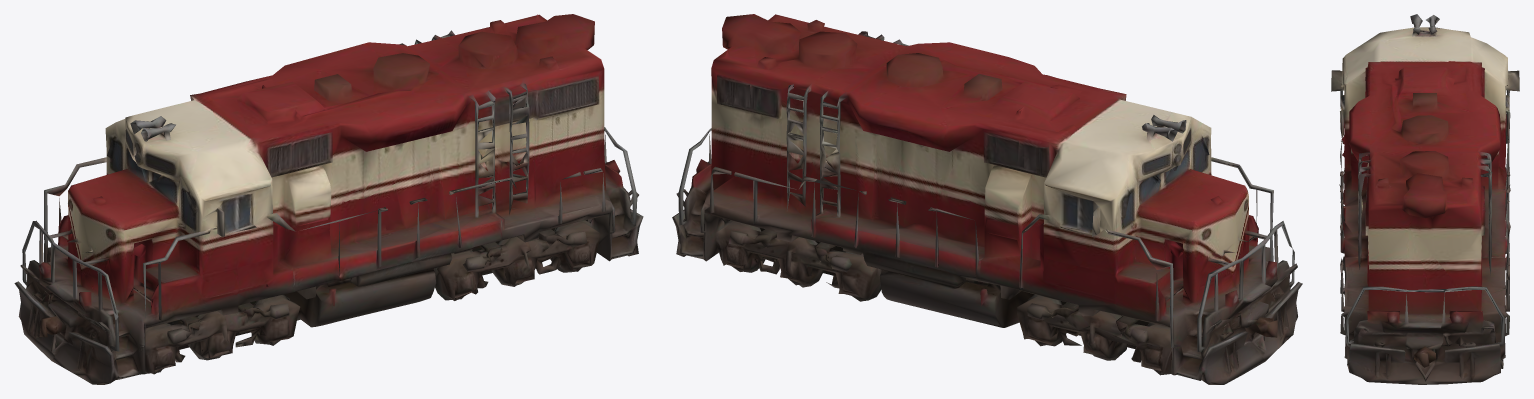
File: train_locomotive.glb
3 views of the same model, side by side, from view 1: azimuth 30°, elevation 25°; view 2: azimuth 150°, elevation 25°; view 3: azimuth 270°, elevation 25° (orthographic). The views are drawn at different scales.
Visible parts, largest first — view 1: tripo_node_ee8b5e13-00f1-4995-8b12-05ebd5625b83; view 2: tripo_node_ee8b5e13-00f1-4995-8b12-05ebd5625b83; view 3: tripo_node_ee8b5e13-00f1-4995-8b12-05ebd5625b83.
Part boxes in pixels (x1=…): tripo_node_ee8b5e13-00f1-4995-8b12-05ebd5625b83: x1=14, y1=14, x2=643, y2=384; tripo_node_ee8b5e13-00f1-4995-8b12-05ebd5625b83: x1=672, y1=14, x2=1302, y2=384; tripo_node_ee8b5e13-00f1-4995-8b12-05ebd5625b83: x1=1331, y1=14, x2=1519, y2=384.
Size of the model in its own units: 1 by 0.3713 by 0.3371.
1 material, 1 textured.
